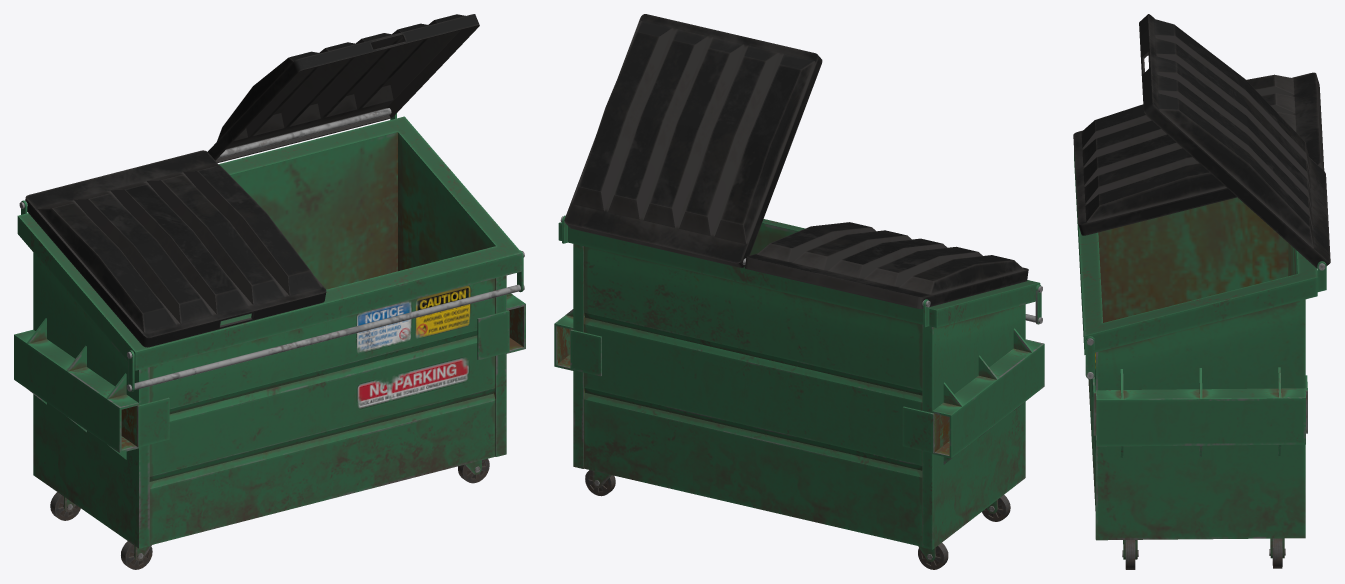
Rendered from 1.1DirtyDumpster.glb.
The picture shows the model from 3 angles, left to right: view 1: azimuth 30°, elevation 25°; view 2: azimuth 150°, elevation 25°; view 3: azimuth 270°, elevation 25°; orthographic projection. The views are drawn at different scales.
Parts seen in each view (by area): view 1: Base_02_Dumpster_02_0, Cap_03_Dumpster_02_0, Cap_04_Dumpster_02_0, Wheel_08_Dumpster_02_0; view 2: Base_02_Dumpster_02_0, Cap_04_Dumpster_02_0, Cap_03_Dumpster_02_0, Wheel_06_Dumpster_02_0, Wheel_07_Dumpster_02_0; view 3: Base_02_Dumpster_02_0, Cap_04_Dumpster_02_0, Cap_03_Dumpster_02_0, Wheel_06_Dumpster_02_0, Wheel_05_Dumpster_02_0.
Part boxes in pixels (box(x1,y1,x2,y2)): Base_02_Dumpster_02_0: box(14, 108, 525, 548); Cap_03_Dumpster_02_0: box(25, 150, 326, 347); Cap_04_Dumpster_02_0: box(207, 14, 479, 162); Wheel_08_Dumpster_02_0: box(121, 541, 152, 569); Base_02_Dumpster_02_0: box(554, 215, 1044, 549); Cap_04_Dumpster_02_0: box(564, 14, 822, 267); Cap_03_Dumpster_02_0: box(745, 222, 1028, 308); Wheel_06_Dumpster_02_0: box(585, 470, 615, 496); Wheel_07_Dumpster_02_0: box(918, 543, 948, 569); Base_02_Dumpster_02_0: box(1074, 152, 1326, 540); Cap_04_Dumpster_02_0: box(1139, 14, 1330, 268); Cap_03_Dumpster_02_0: box(1073, 72, 1324, 235); Wheel_06_Dumpster_02_0: box(1269, 538, 1285, 568); Wheel_05_Dumpster_02_0: box(1122, 540, 1138, 569).
Size of the model in its own units: 2.12 by 2.23 by 1.1.
1 material, 1 textured.
